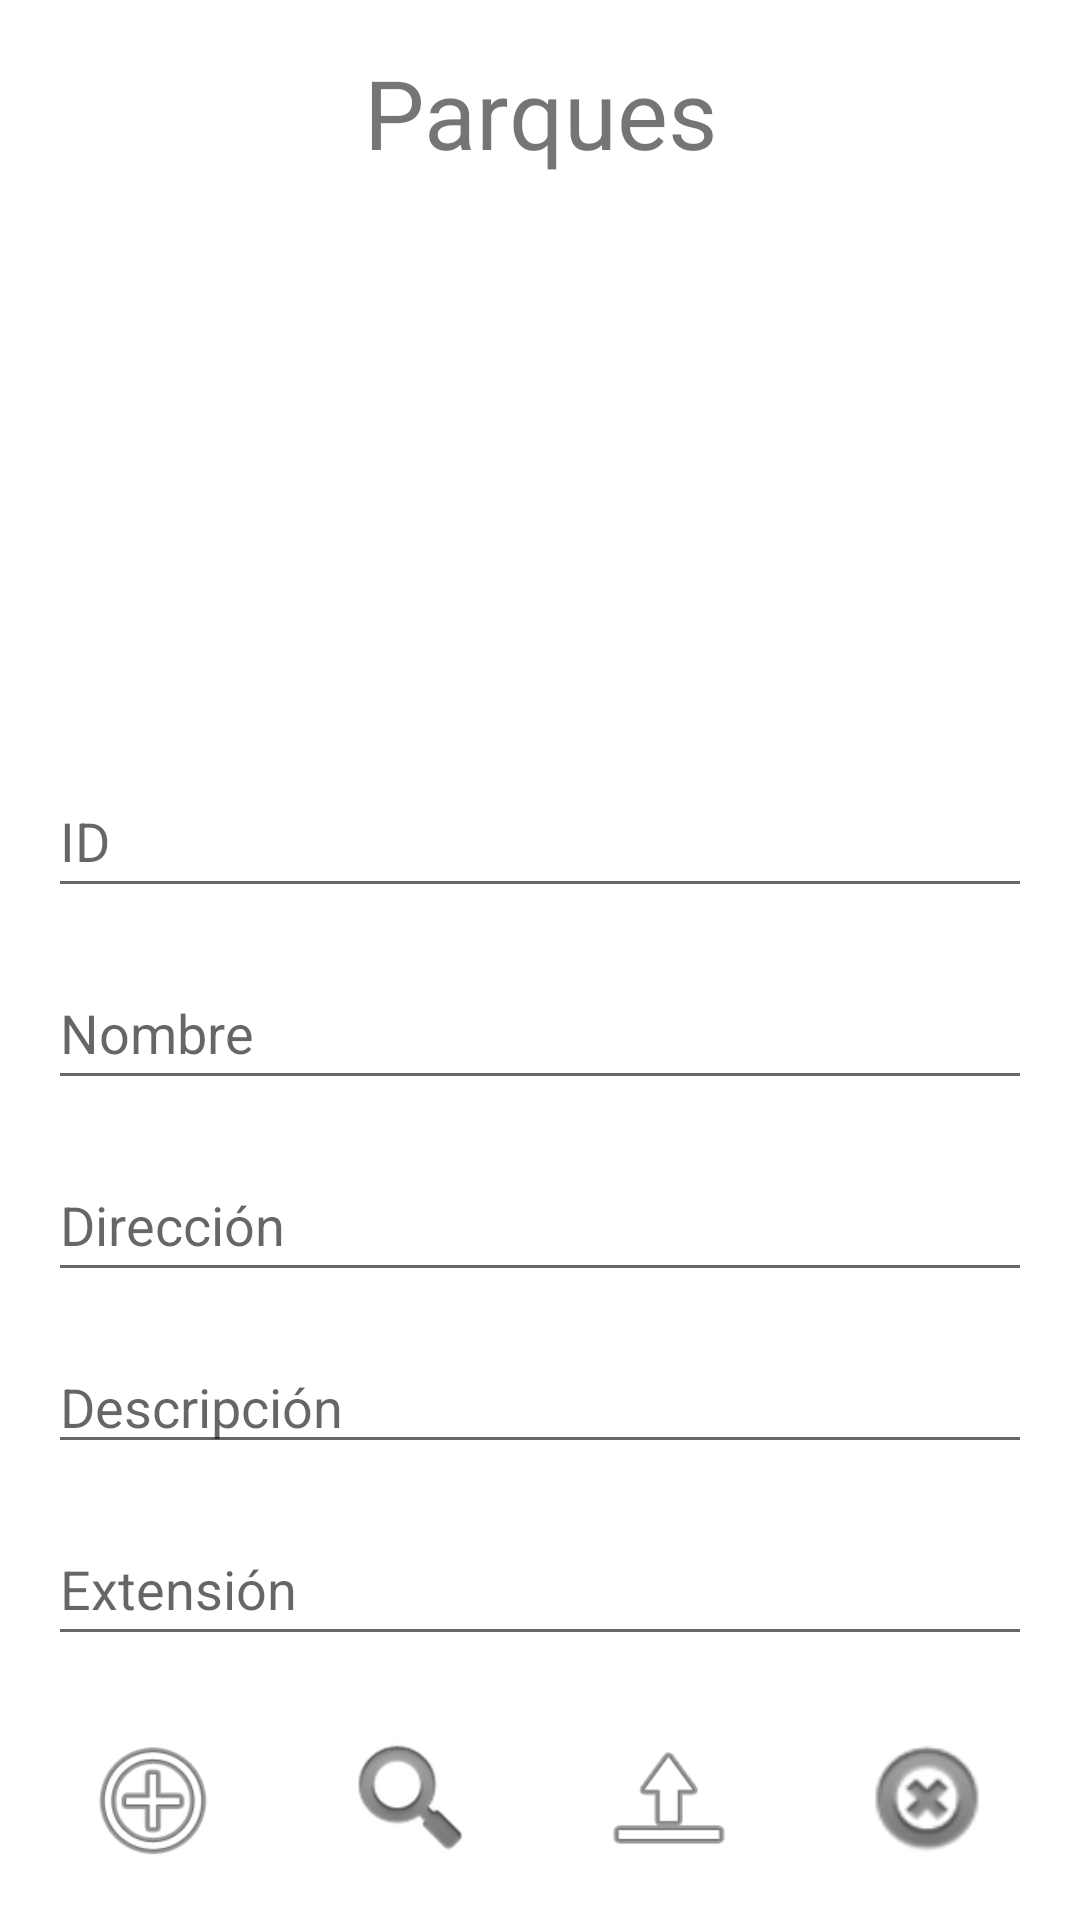

Screen size 1080 × 1920. Icon name, then its box in pixels as [x1,y1,x2,y2]:
actualizar: [613,1752,725,1844]
agregar: [99,1747,207,1854]
buscar: [358,1745,462,1849]
eliminar: [875,1746,979,1850]
